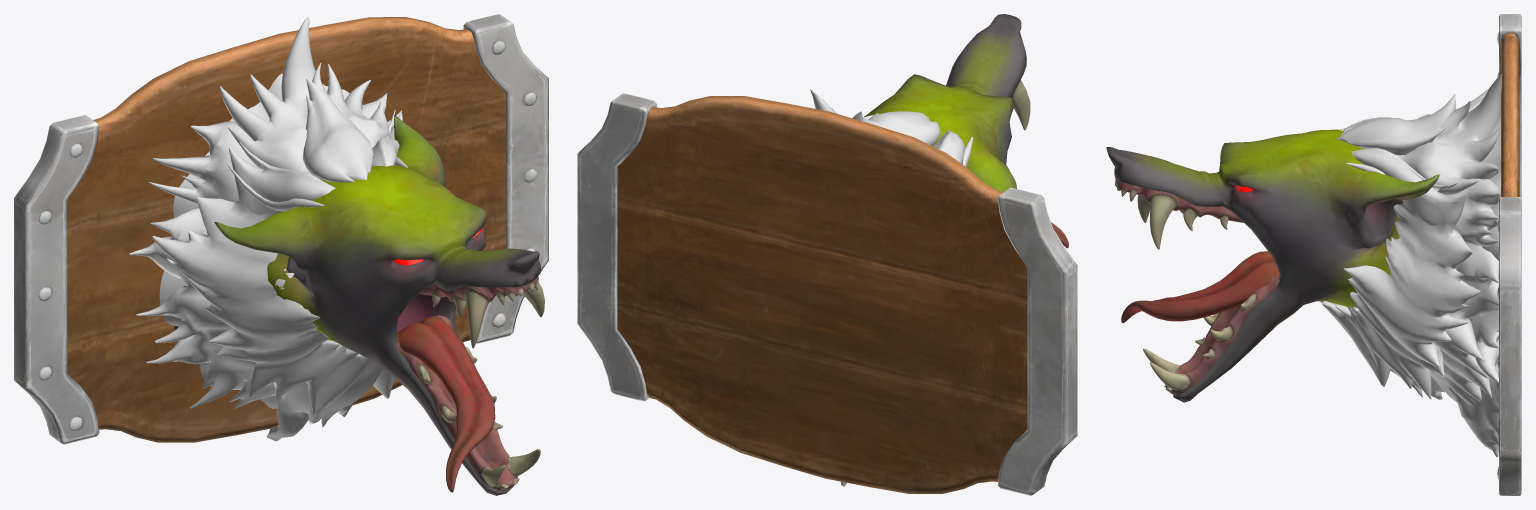
3 renders of one model, left to right at view 1: azimuth 30°, elevation 25°; view 2: azimuth 150°, elevation 25°; view 3: azimuth 270°, elevation 25°, orthographic. The views are drawn at different scales.
Visible parts, largest first — view 1: SM_Trophy_Plaque_Wolf_LOD0; view 2: SM_Trophy_Plaque_Wolf_LOD0; view 3: SM_Trophy_Plaque_Wolf_LOD0.
Part boxes in pixels (bbox=[...]): SM_Trophy_Plaque_Wolf_LOD0: bbox=[14, 14, 548, 495]; SM_Trophy_Plaque_Wolf_LOD0: bbox=[577, 14, 1077, 495]; SM_Trophy_Plaque_Wolf_LOD0: bbox=[1106, 14, 1521, 495].
Size of the model in its own units: 0.8959 by 0.6802 by 0.6789.
Materials: 3 (2 with a texture image).
